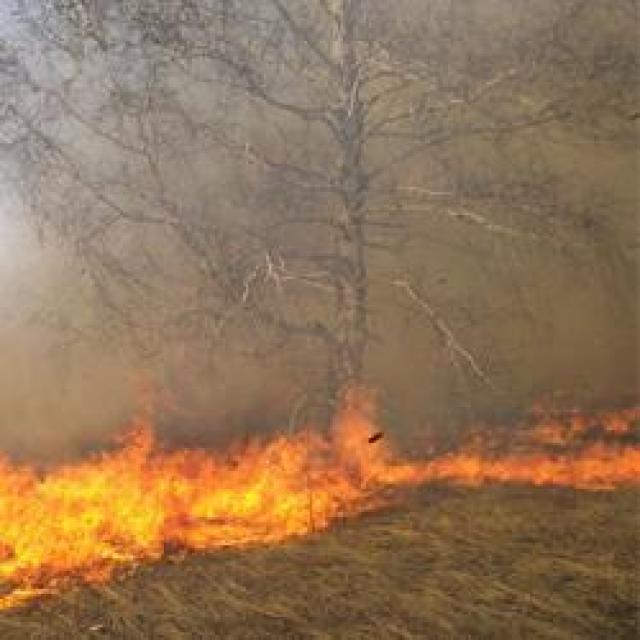fire: (0, 458, 309, 536), (447, 444, 640, 494)
